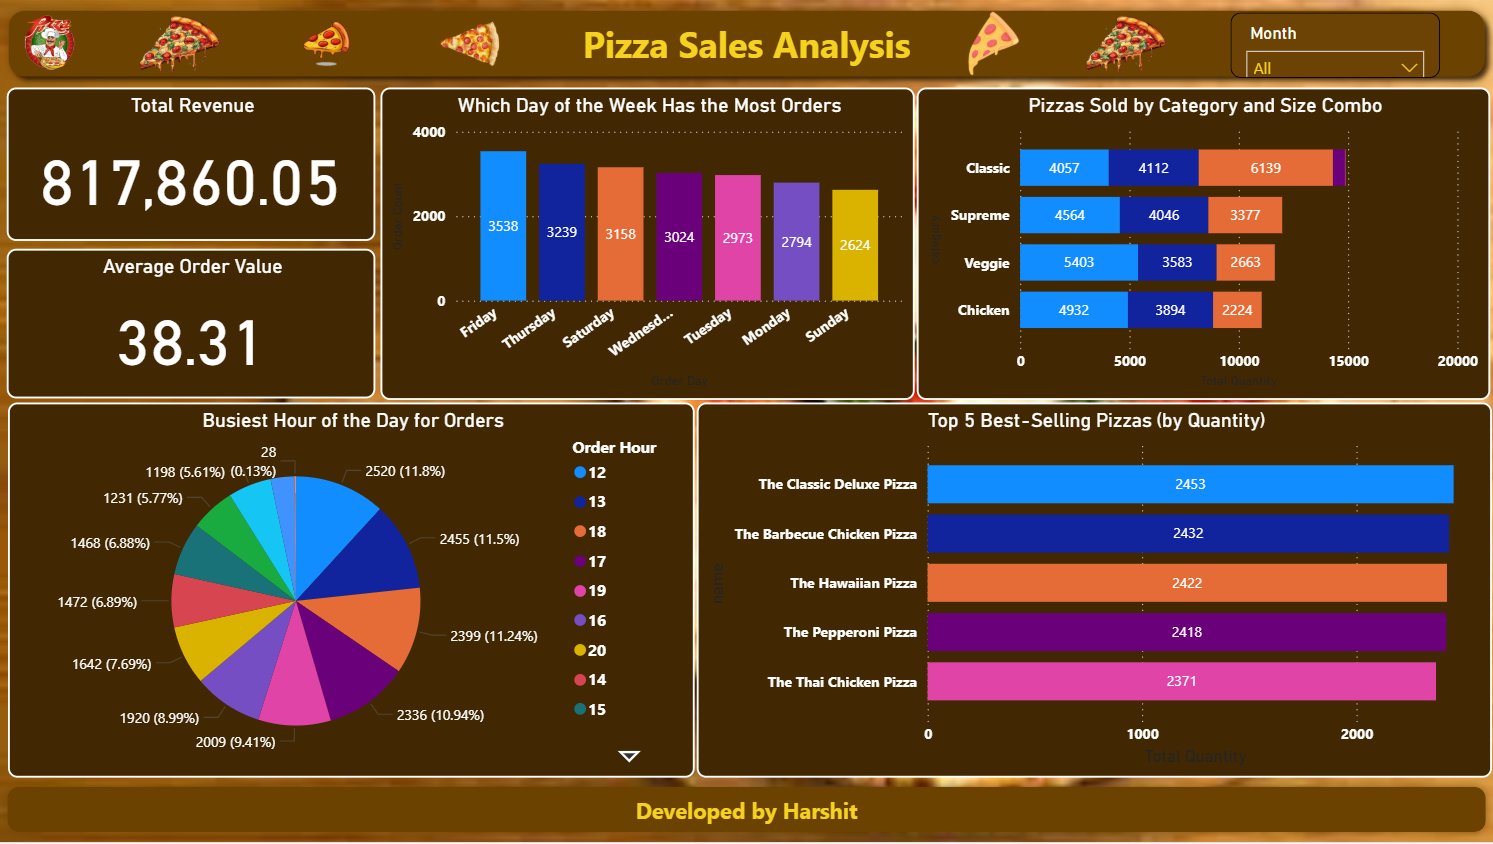

What the dashboard file says about the page in this screenshot:
{"tool":"powerbi","page":{"name":"Page 1","canvas":[1280,720],"ordinal":0},"visuals":[{"type":"shape","box":[0,0,1280.2,74.4],"z":0},{"type":"card","title":"Total Revenue","fields":{"Values":["pizzas.Total Revenue"]},"box":[7,74.4,315.1,131.4],"z":1000},{"type":"card","title":"Average Order Value","fields":{"Values":["orders.AverageOrder"]},"box":[7,212.8,315.1,127.9],"z":2000},{"type":"barChart","title":"Top 5 Best-Selling Pizzas (by Quantity)","fields":{"Y":["order_details.Total Quantity"],"Category":["pizza_types.name"],"Series":["pizza_types.name"]},"box":[597.7,344.2,680.2,320.9],"z":3000},{"type":"barChart","title":"Pizzas Sold by Category and Size Combo","fields":{"Category":["pizza_types.category"],"Y":["order_details.Total Quantity"],"Series":["pizzas.size"]},"box":[786,74.4,490.7,267.4],"z":4000},{"type":"columnChart","title":" Which Day of the Week Has the Most Orders","fields":{"Y":["orders.Order Count"],"Category":["orders.Order Day"],"Series":["orders.Order Day"]},"box":[326.7,74.4,457,267.4],"z":5000},{"type":"slicer","title":"Month","fields":{"Values":["DateTable.Date.Variation.Date Hierarchy.Month"]},"box":[1053.5,10.5,179.1,55.8],"z":6000},{"type":"pieChart","title":"Busiest Hour of the Day for Orders","fields":{"Category":["orders.Order Hour"],"Y":["orders.Order Count"]},"box":[8.1,344.2,587.2,320.9],"z":7000},{"type":"shape","box":[0,665.1,1280.2,54.7],"z":8000},{"type":"image","box":[16.3,8.1,55.8,55.8],"z":9000},{"type":"image","box":[116.3,0,77.9,74.4],"z":10000},{"type":"image","box":[231.4,0,100,74.4],"z":11000},{"type":"image","box":[359.3,0,84.9,74.4],"z":12000},{"type":"image","box":[814,0,76.7,74.4],"z":13000},{"type":"image","box":[925.6,0,77.9,74.4],"z":14000}]}

Visuals, with their boxes in screenshot pixels (x1, y1, x2, y2), scaled from the page's 1280x720 canvas onto the 1493x844 screenshot:
shape: 0/0/1492/87
"Total Revenue" card: 8/87/376/241
"Average Order Value" card: 8/249/376/399
"Top 5 Best-Selling Pizzas (by Quantity)" barChart: 697/403/1491/780
"Pizzas Sold by Category and Size Combo" barChart: 917/87/1489/401
" Which Day of the Week Has the Most Orders" columnChart: 381/87/914/401
"Month" slicer: 1229/12/1438/78
"Busiest Hour of the Day for Orders" pieChart: 9/403/694/780
shape: 0/780/1492/843
image: 19/9/84/75
image: 136/0/227/87
image: 270/0/387/87
image: 419/0/518/87
image: 949/0/1039/87
image: 1080/0/1170/87
